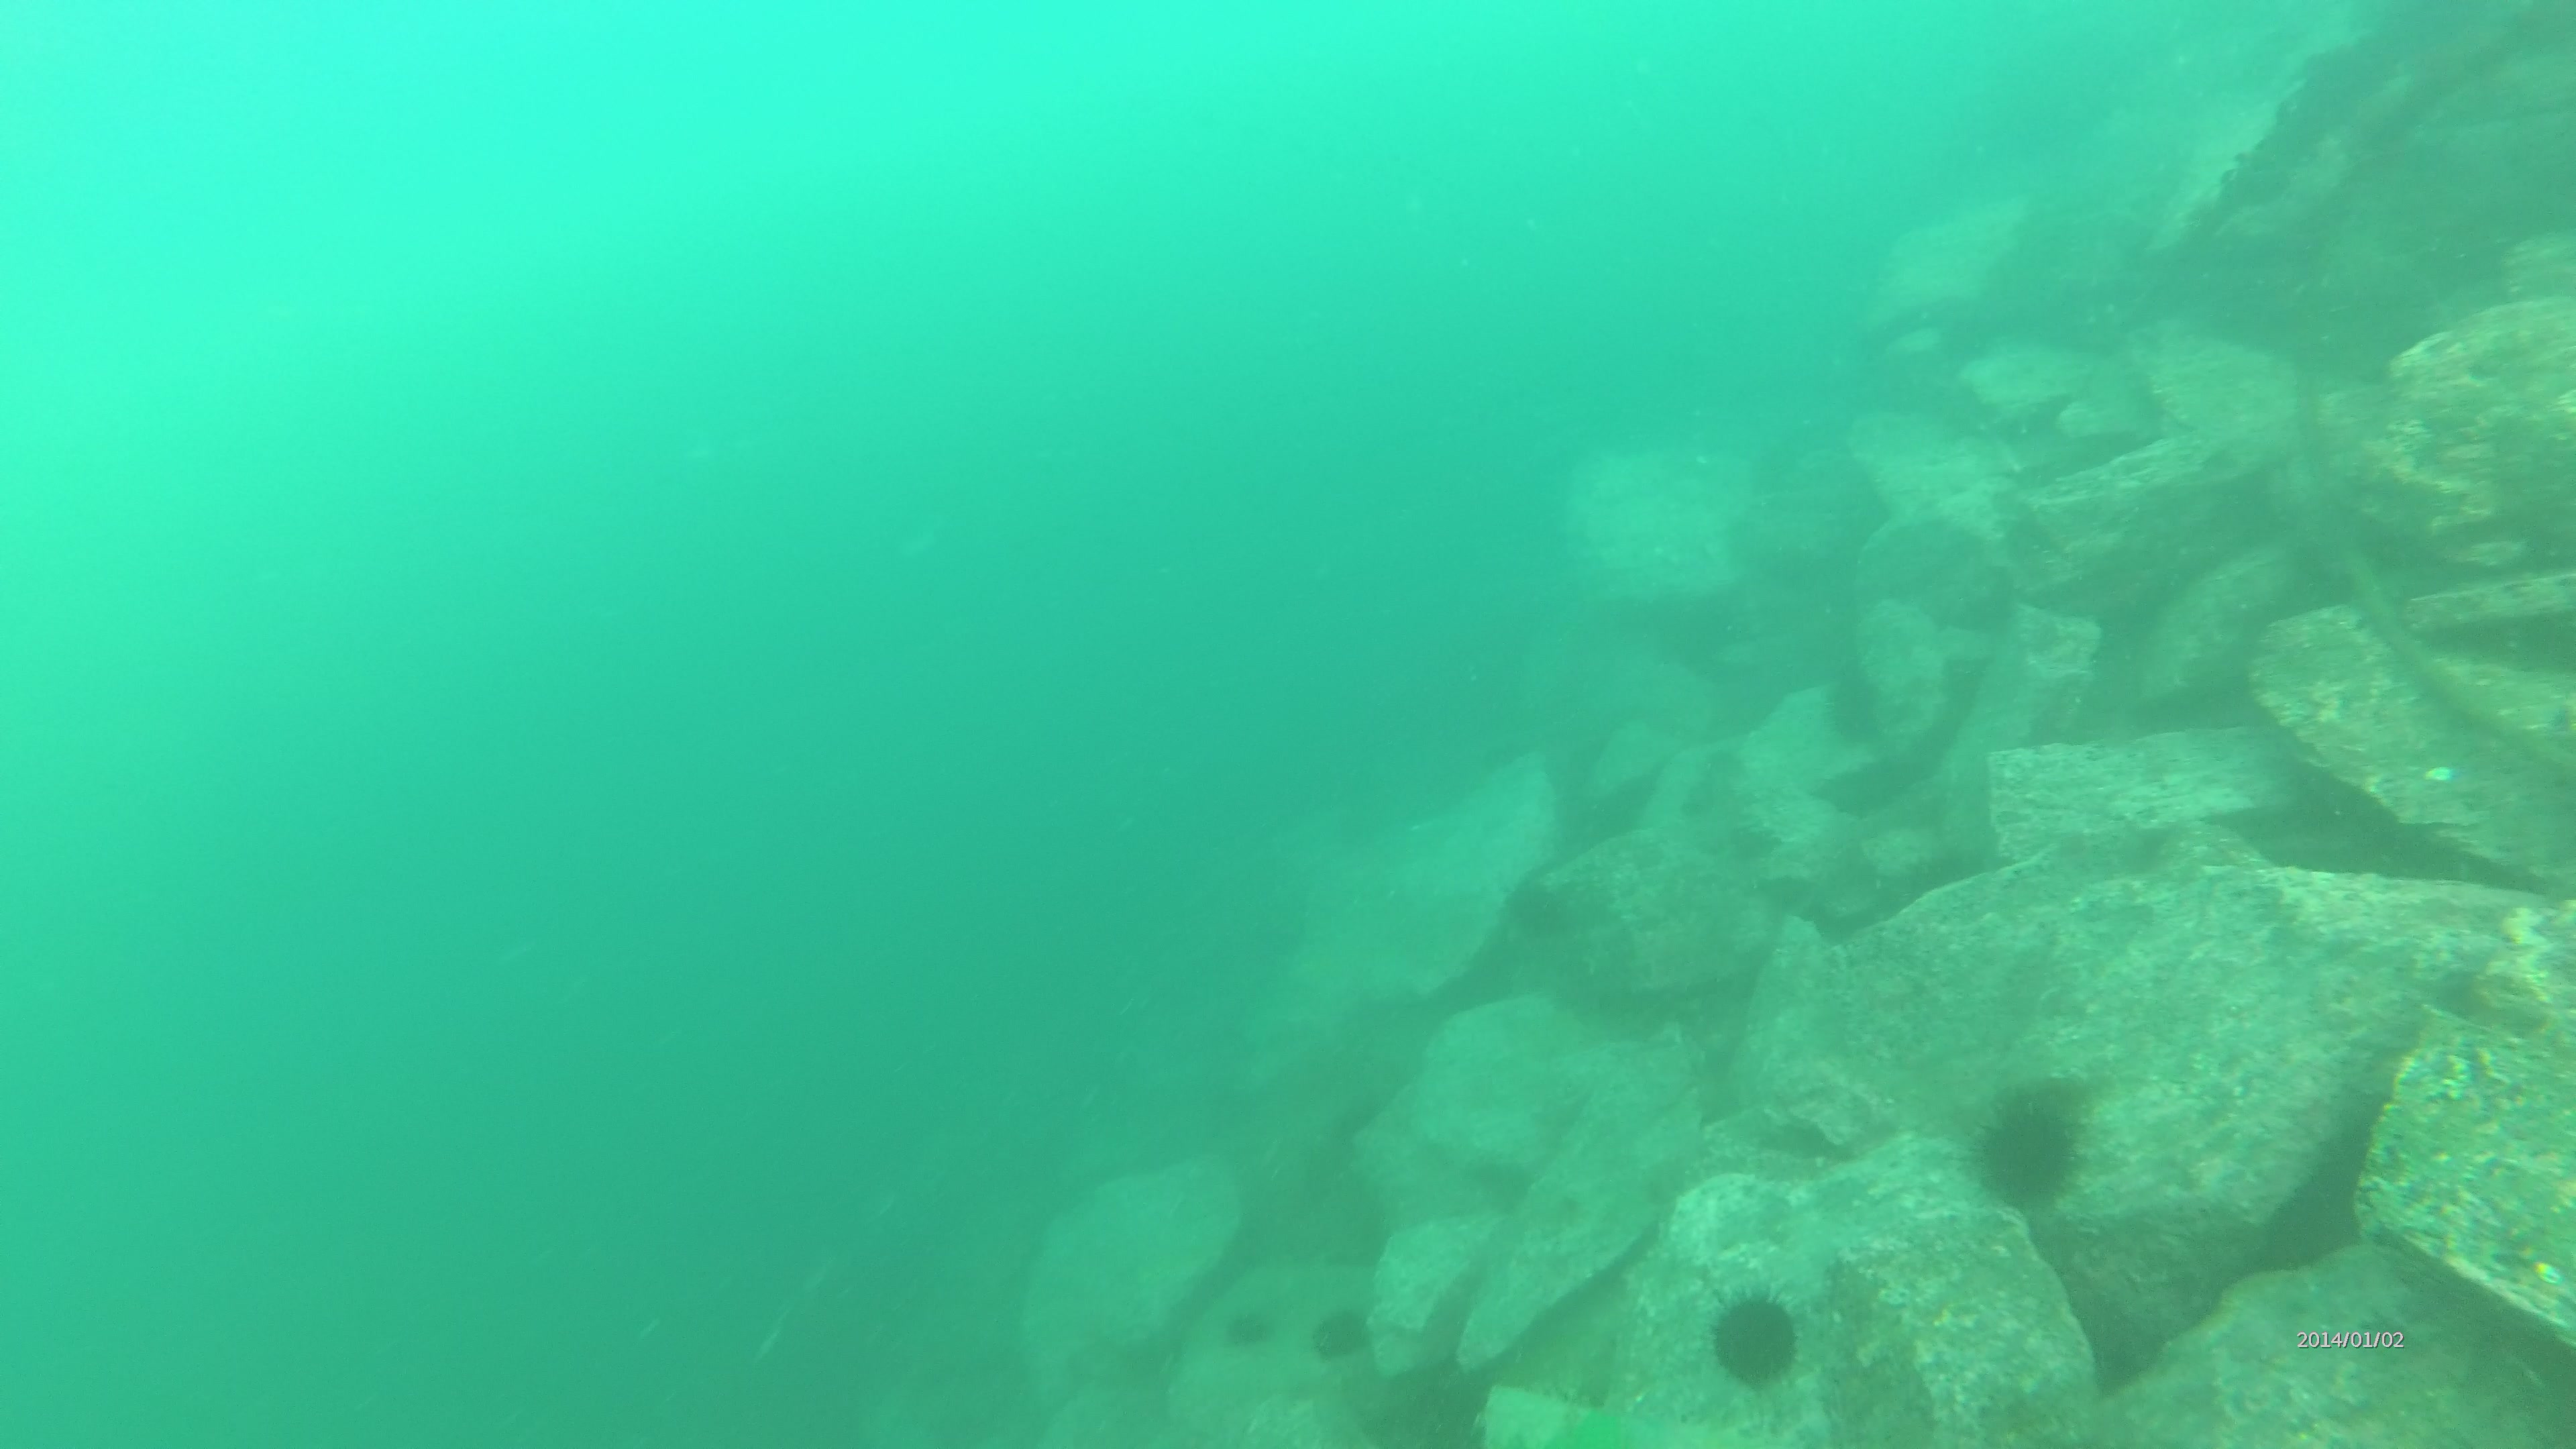echinus: (1957, 1065, 2093, 1210), (1700, 1288, 1801, 1394), (1819, 655, 1900, 743), (1304, 1293, 1375, 1375), (1499, 870, 1576, 941), (1208, 1295, 1277, 1353)
